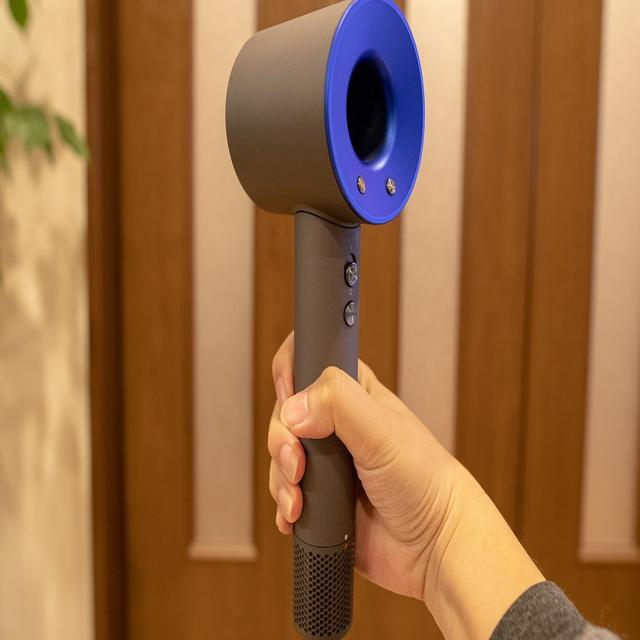dryer: (225, 0, 426, 640)
